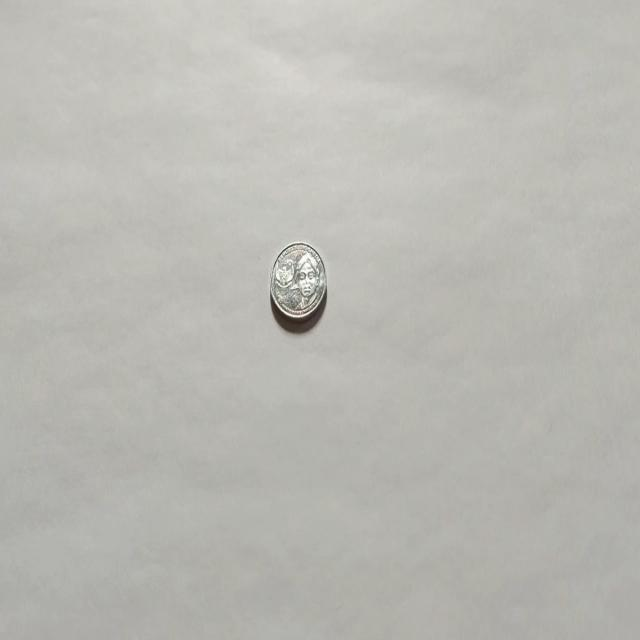dua ratus rupiah: (269, 240, 327, 323)
